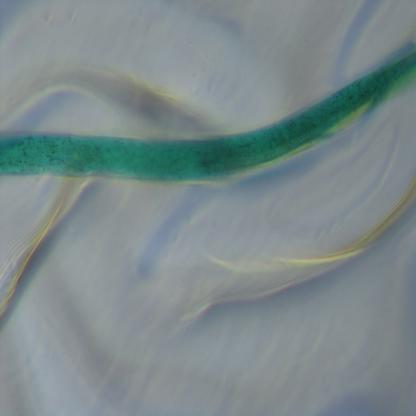Background material: (177, 160, 416, 325), (0, 58, 221, 139), (0, 181, 90, 322)
Microfibre: (0, 48, 416, 185)
